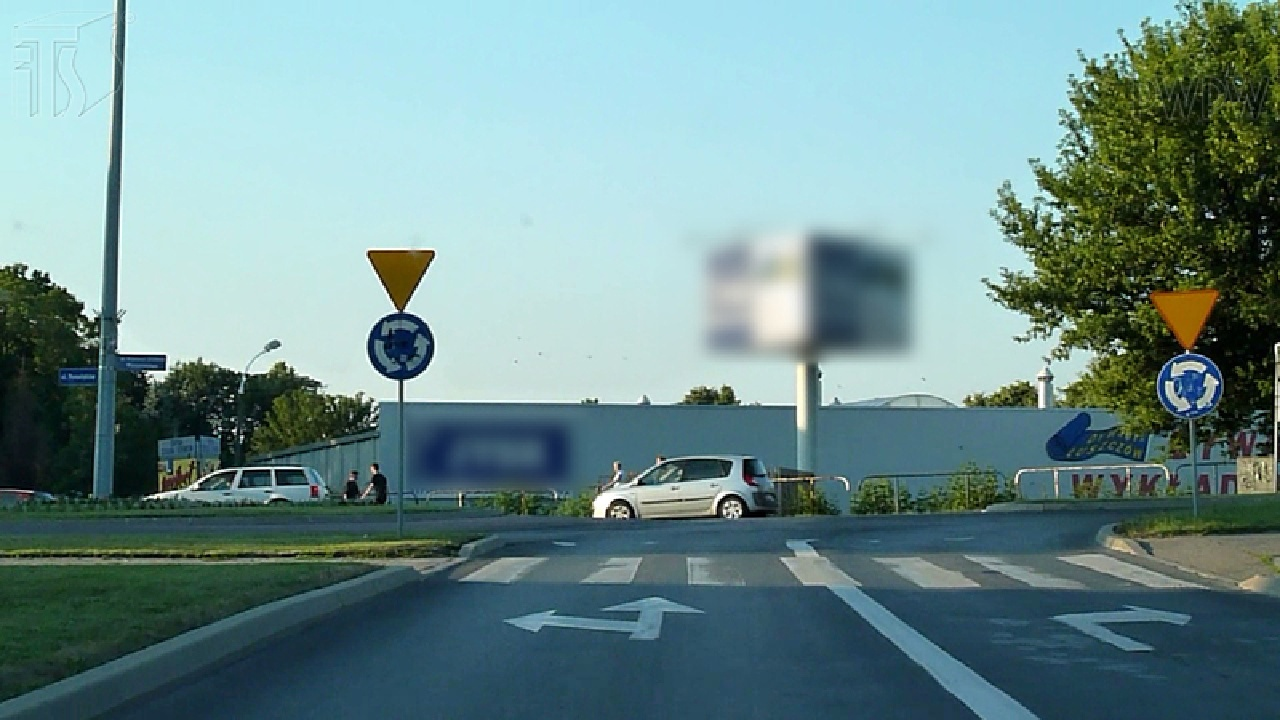A7: (365, 249, 436, 313), (1147, 289, 1221, 350)
C12: (368, 313, 436, 384), (1155, 354, 1224, 418)
